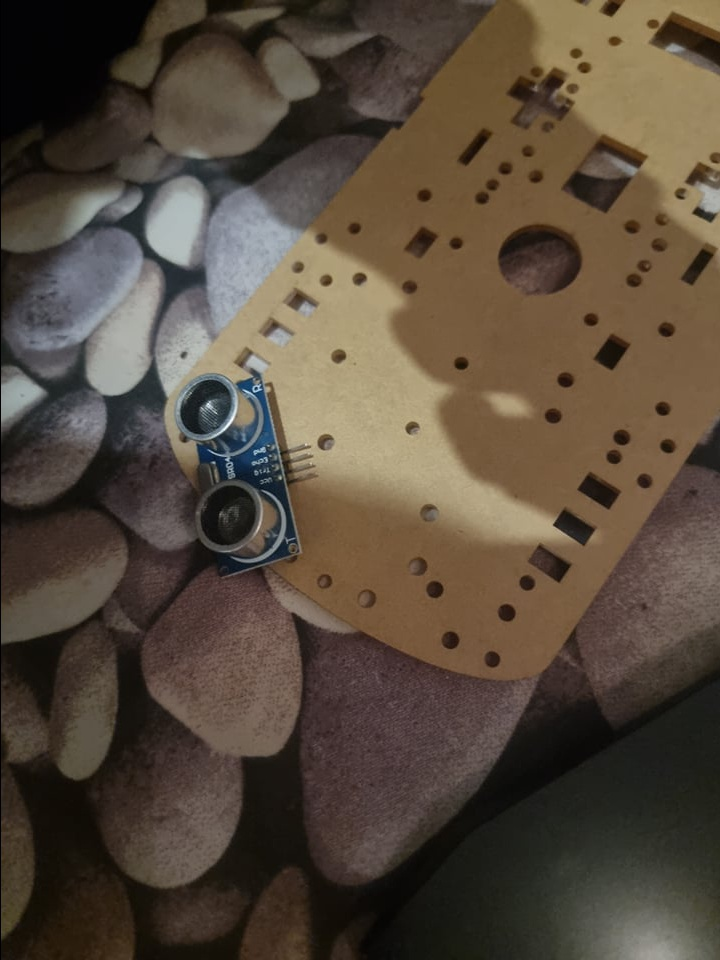SENSOR: (172, 372, 300, 581)
